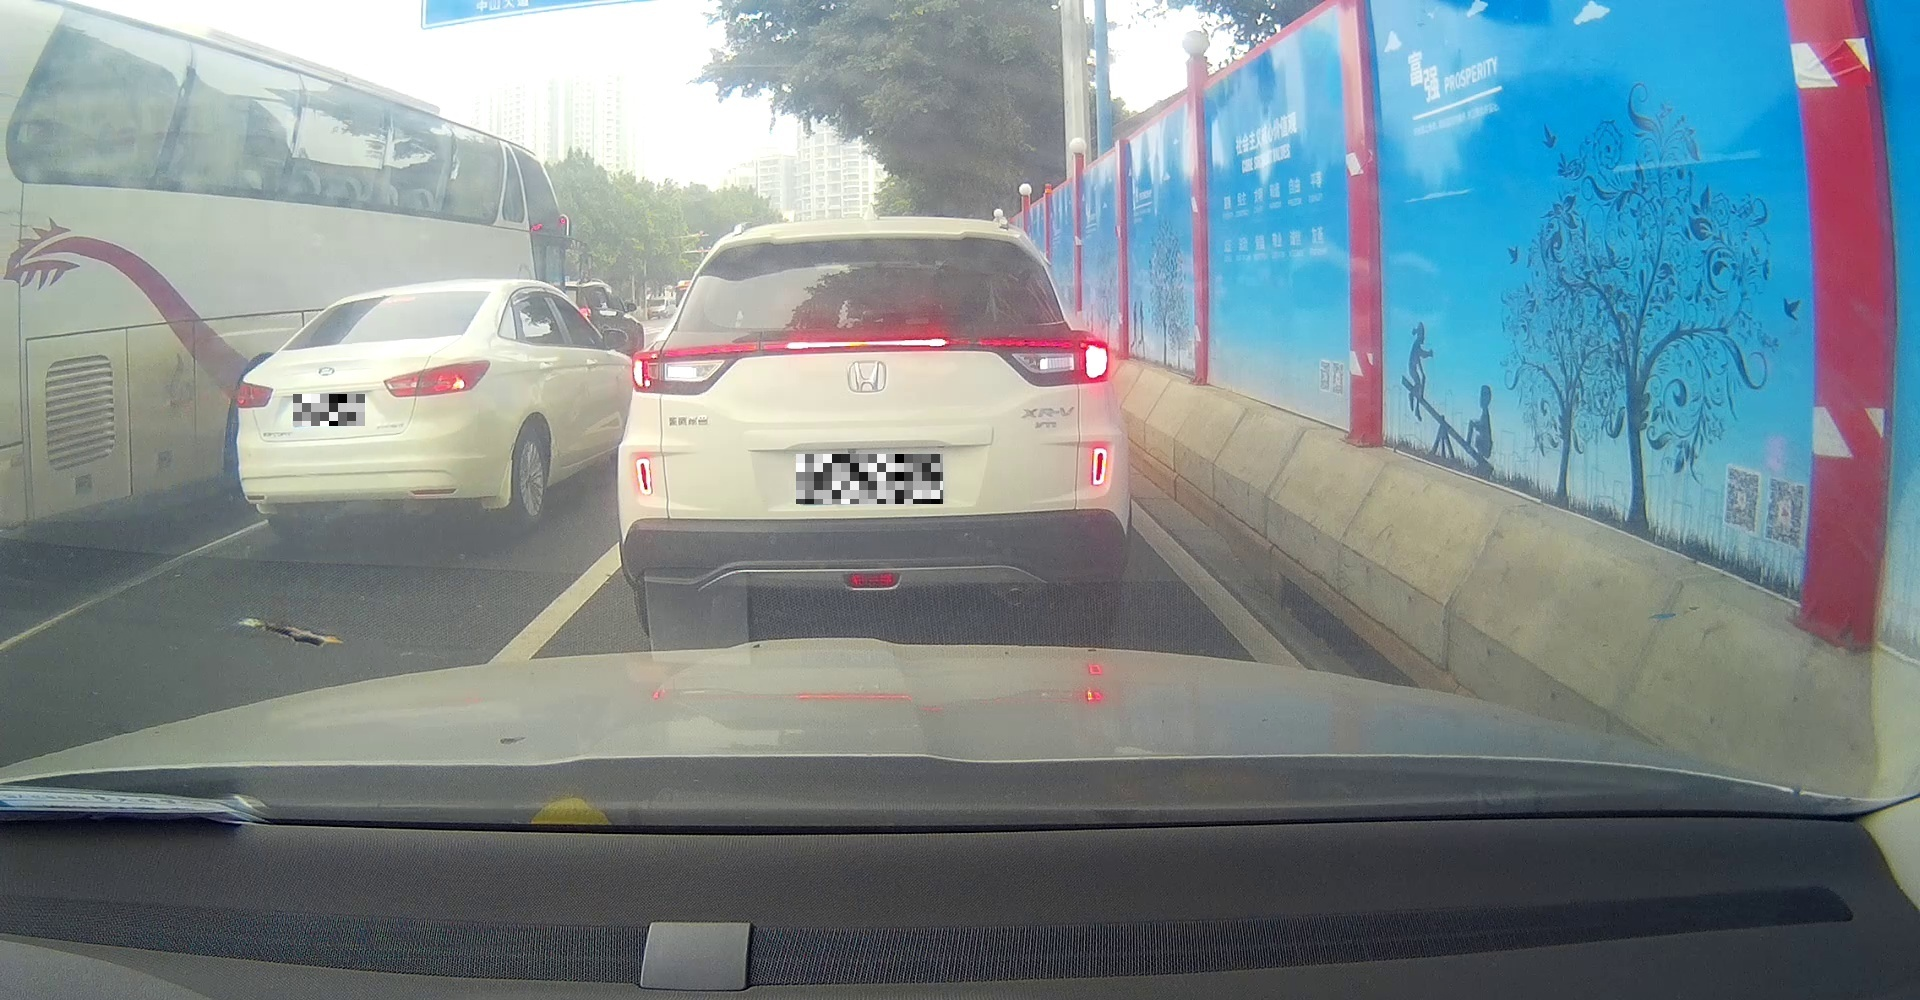L_light: (631, 341, 756, 393), (237, 382, 273, 407)
R_light: (978, 338, 1110, 386), (383, 359, 490, 398)
T_light: (786, 336, 949, 350), (380, 296, 417, 303)
day-brake: (616, 216, 1131, 640), (237, 278, 495, 539)
plate_1: (293, 393, 364, 426)
plate_2: (796, 454, 943, 504)
